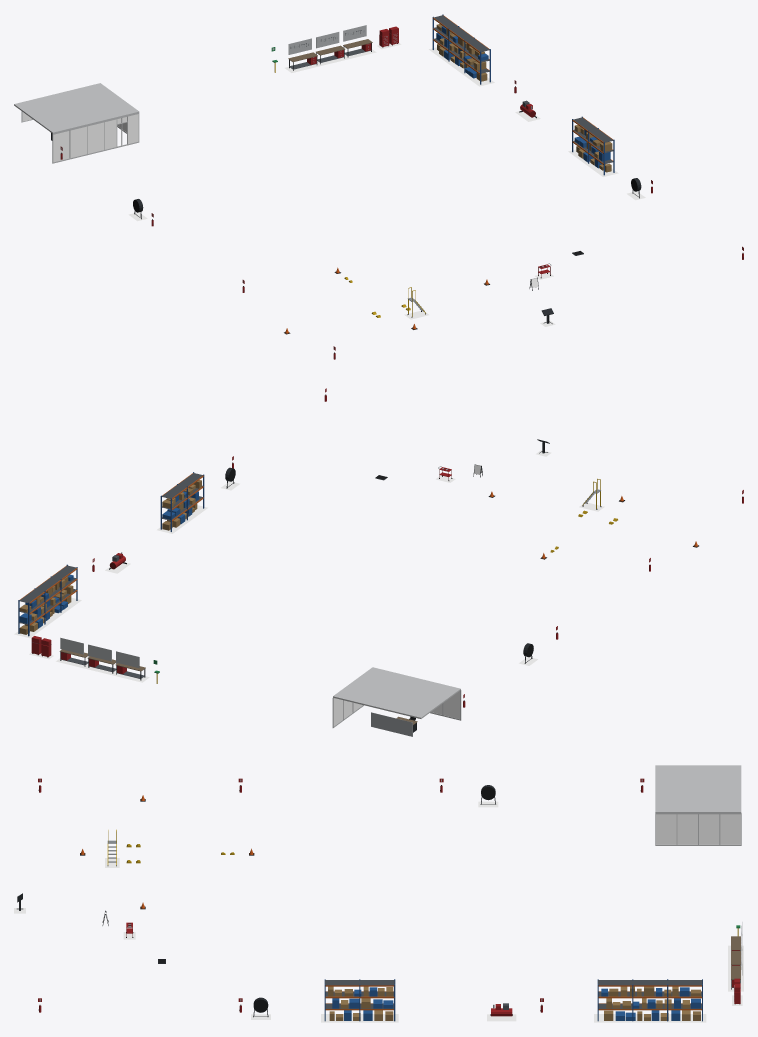
The model's file is muebles.glb.
3 views of the same model, one above another, from view 1: azimuth 30°, elevation 25°; view 2: azimuth 150°, elevation 25°; view 3: azimuth 270°, elevation 25° (orthographic). The views are drawn at different scales.
Parts seen in each view (by area): view 1: muebles, muebles_vidrio, muebles_sombra; view 2: muebles, muebles_sombra, muebles_vidrio; view 3: muebles, muebles_vidrio, muebles_sombra.
Boxes of the visible parts, x1=… form: muebles: x1=14, y1=14, x2=743, y2=359; muebles_vidrio: x1=53, y1=114, x2=138, y2=162; muebles_sombra: x1=128, y1=43, x2=645, y2=326; muebles: x1=18, y1=388, x2=743, y2=736; muebles_sombra: x1=14, y1=450, x2=604, y2=682; muebles_vidrio: x1=333, y1=691, x2=460, y2=725; muebles: x1=17, y1=765, x2=742, y2=1021; muebles_vidrio: x1=656, y1=814, x2=740, y2=844; muebles_sombra: x1=14, y1=801, x2=743, y2=1022.
Bounding box in the file's own units: 39.48 × 3 × 54.55.
